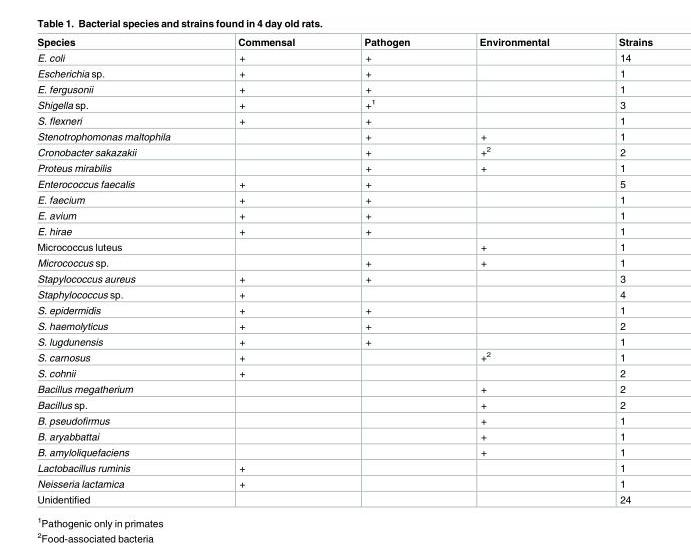table: (36, 37, 652, 504)
table column: (36, 37, 203, 504), (444, 37, 583, 504), (203, 37, 328, 504), (328, 37, 444, 504), (583, 37, 652, 504)
table column header: (36, 37, 652, 49)
table row: (36, 96, 652, 113), (36, 143, 652, 160), (36, 348, 652, 365), (36, 49, 652, 65), (36, 65, 652, 81), (36, 160, 652, 176), (36, 176, 652, 192), (36, 207, 652, 223), (36, 223, 652, 239), (36, 239, 652, 255), (36, 270, 652, 286), (36, 286, 652, 302), (36, 302, 652, 318), (36, 318, 652, 334), (36, 365, 652, 381), (36, 381, 652, 397), (36, 412, 652, 428), (36, 428, 652, 444), (36, 444, 652, 460), (36, 460, 652, 476), (36, 81, 652, 96), (36, 113, 652, 128), (36, 128, 652, 143), (36, 192, 652, 207), (36, 255, 652, 270), (36, 397, 652, 412), (36, 476, 652, 491), (36, 334, 652, 348), (36, 491, 652, 504), (36, 37, 652, 49)
